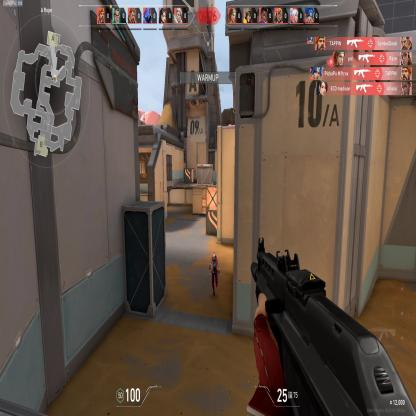enemy: (208, 249, 220, 298)
